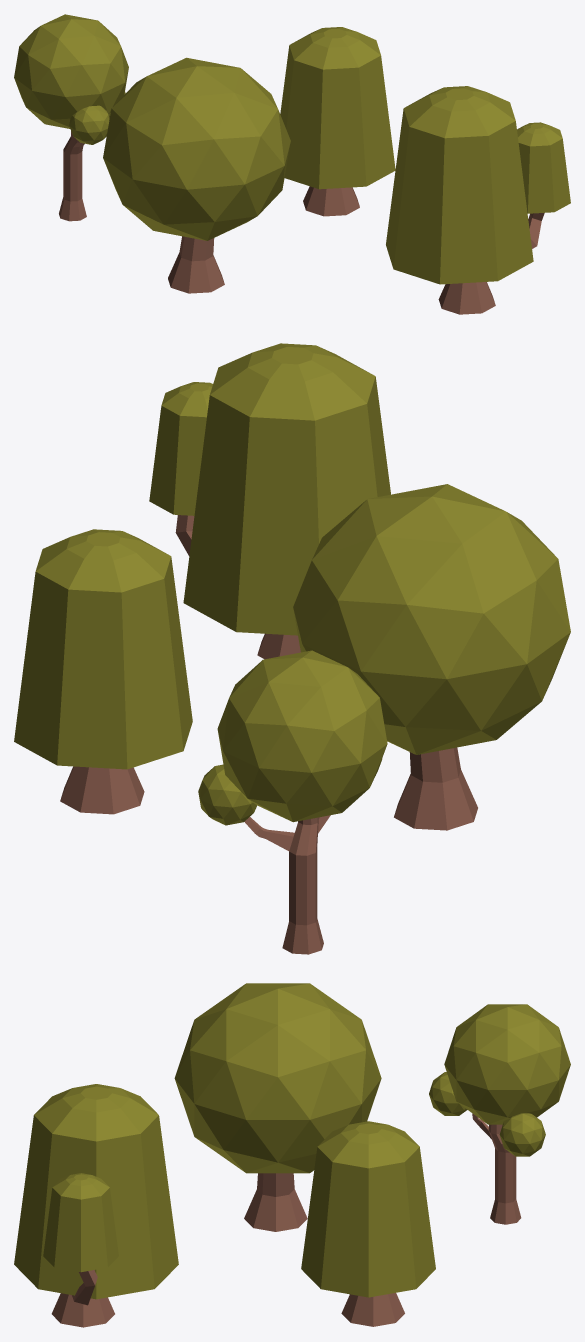
File: Zbunje.fbx
The picture shows the model from 3 angles, top to bottom: view 1: azimuth 30°, elevation 25°; view 2: azimuth 150°, elevation 25°; view 3: azimuth 270°, elevation 25°; orthographic projection. The views are drawn at different scales.
Visible parts, largest first — view 1: SuvoDrvo.003, Icosphere.003, SuvoDrvo.002, Cylinder; view 2: Icosphere.003, SuvoDrvo.003, SuvoDrvo.002, Cylinder; view 3: Icosphere.003, SuvoDrvo.003, SuvoDrvo.002, Cylinder.
Part boxes in pixels (left/top/right/bottom): SuvoDrvo.003: left=386, top=86, right=570, bottom=314; Icosphere.003: left=103, top=57, right=290, bottom=293; SuvoDrvo.002: left=280, top=27, right=395, bottom=216; Cylinder: left=14, top=14, right=128, bottom=221; Icosphere.003: left=293, top=484, right=570, bottom=830; SuvoDrvo.003: left=149, top=343, right=390, bottom=659; SuvoDrvo.002: left=14, top=529, right=192, bottom=814; Cylinder: left=198, top=650, right=387, bottom=954; Icosphere.003: left=174, top=983, right=381, bottom=1231; SuvoDrvo.003: left=14, top=1084, right=178, bottom=1327; SuvoDrvo.002: left=301, top=1121, right=435, bottom=1326; Cylinder: left=429, top=1004, right=570, bottom=1224.
Bounding box in the file's own units: 528 × 313 × 660.
